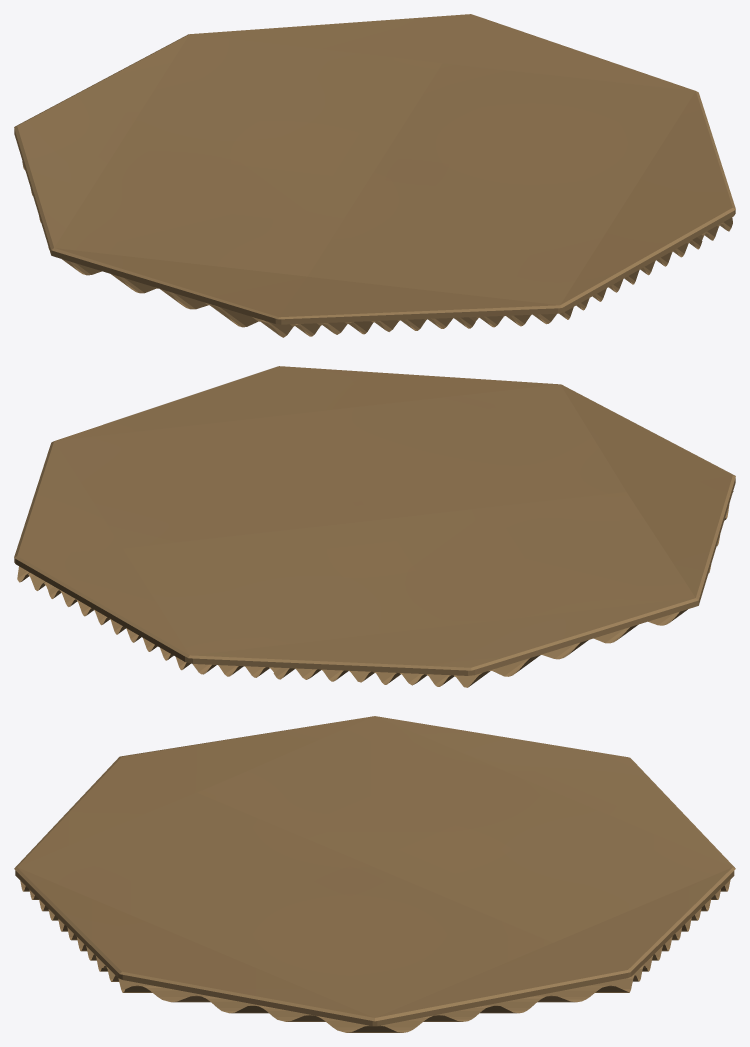
File: paper board 1.fbx
The picture shows the model from 3 angles, top to bottom: view 1: azimuth 30°, elevation 25°; view 2: azimuth 150°, elevation 25°; view 3: azimuth 270°, elevation 25°; orthographic projection. The views are drawn at different scales.
Parts seen in each view (by area): view 1: Cylinder, BézierCurve.002, BézierCurve.003; view 2: Cylinder, BézierCurve.002, BézierCurve.003; view 3: Cylinder, BézierCurve.004, BézierCurve.003.
Boxes of the visible parts, x1,y1,x2,y2 form: Cylinder: [14, 14, 735, 324]; BézierCurve.002: [22, 161, 475, 337]; BézierCurve.003: [469, 237, 702, 327]; Cylinder: [14, 366, 735, 675]; BézierCurve.002: [273, 491, 733, 687]; BézierCurve.003: [48, 586, 280, 677]; Cylinder: [14, 716, 735, 1026]; BézierCurve.004: [103, 965, 645, 1032]; BézierCurve.003: [20, 880, 730, 971].
Bounding box in the file's own units: 547 × 20.58 × 547.
